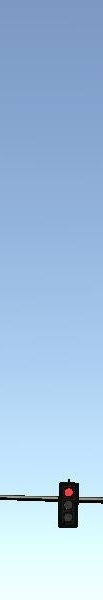Red: (59, 481, 78, 528)
